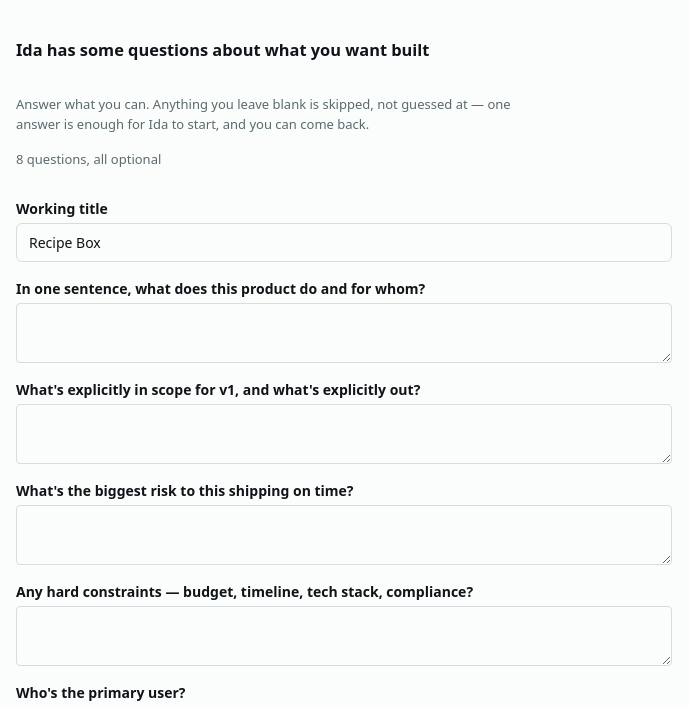
Test: the disabled primary says what IT is waiting for (W13-02) › says nothing once it can actually run
The width and height of the screenshot is (689, 707).
In the text box with test id "interview-answer-docs/VISION.md": (344, 333) [16,303,672,363], type "A thing that does a thing."
(page scrolled)
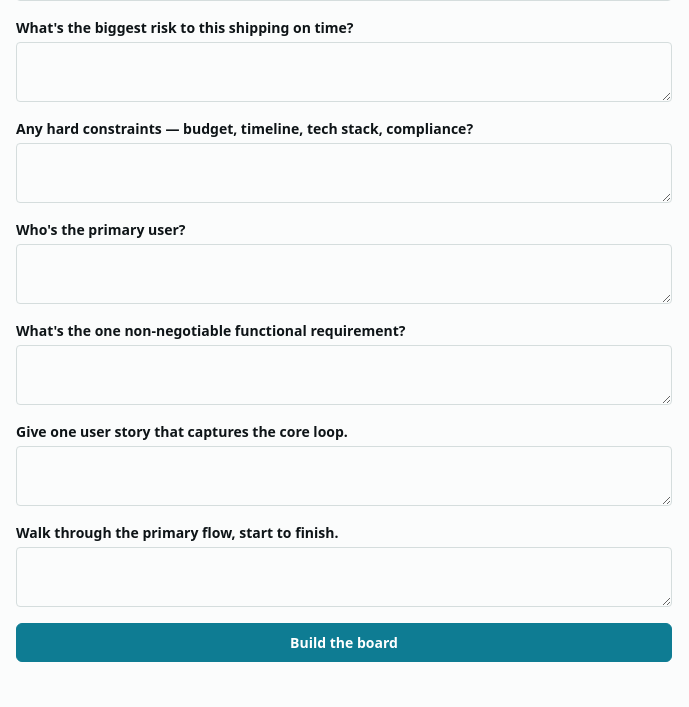
Check: the button with test id "interview-run" is enabled, box [16,623,672,662]
